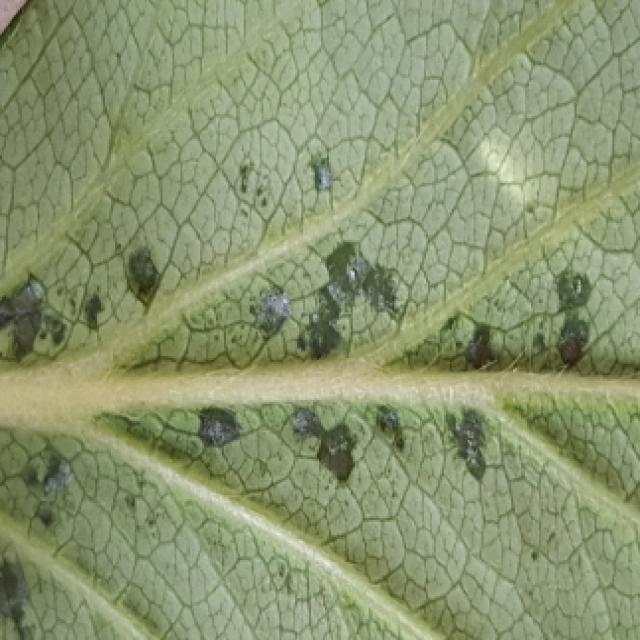Angular Leafspot: (0, 130, 640, 640)
